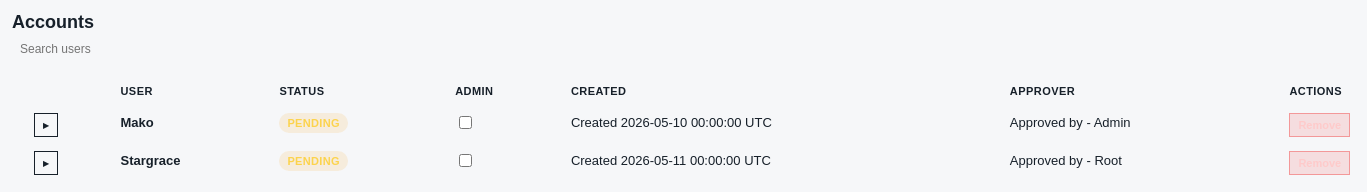
Test: AdminAccountsView › filters account cards by username from the search field
Type "star" into the search field labelled "Search users" at (98, 49), box 12,34 -> 183,64
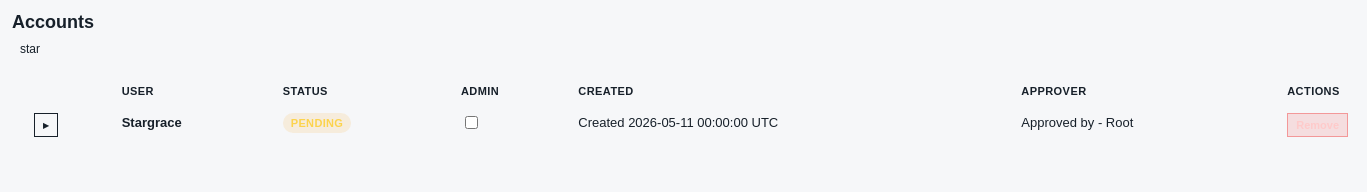
Expected: the text "Stargrace" is shown, 122,115 -> 182,130
Now the text "Mako" is gone
Replace the text in the search field named "Search users" with "missing" at (98, 49), box 12,34 -> 183,64
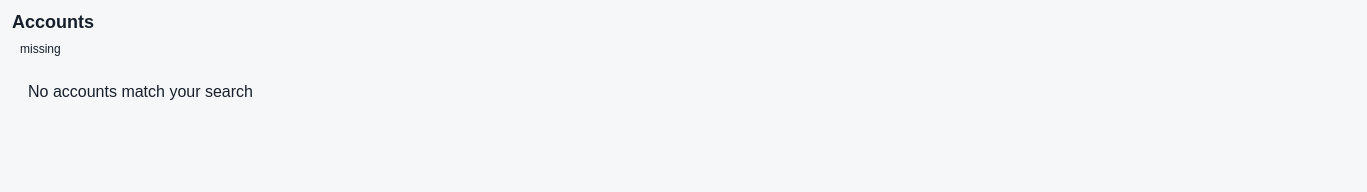
Now the text "Stargrace" is gone
Now the text "No accounts match your search" is shown, box 28,83 -> 253,100
